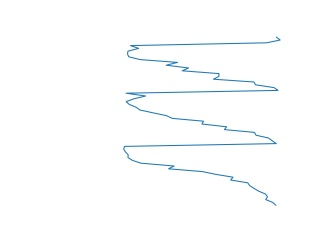distributaryMouthBar: (119, 33, 282, 208)
